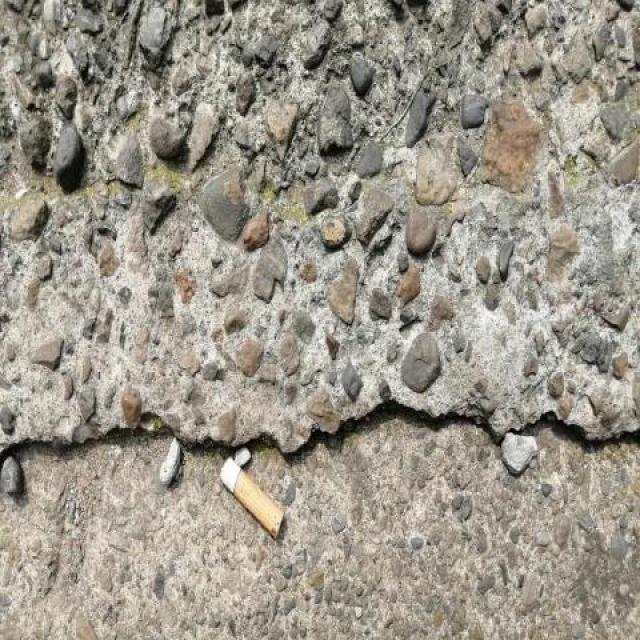non-organic waste: (211, 454, 289, 541)
